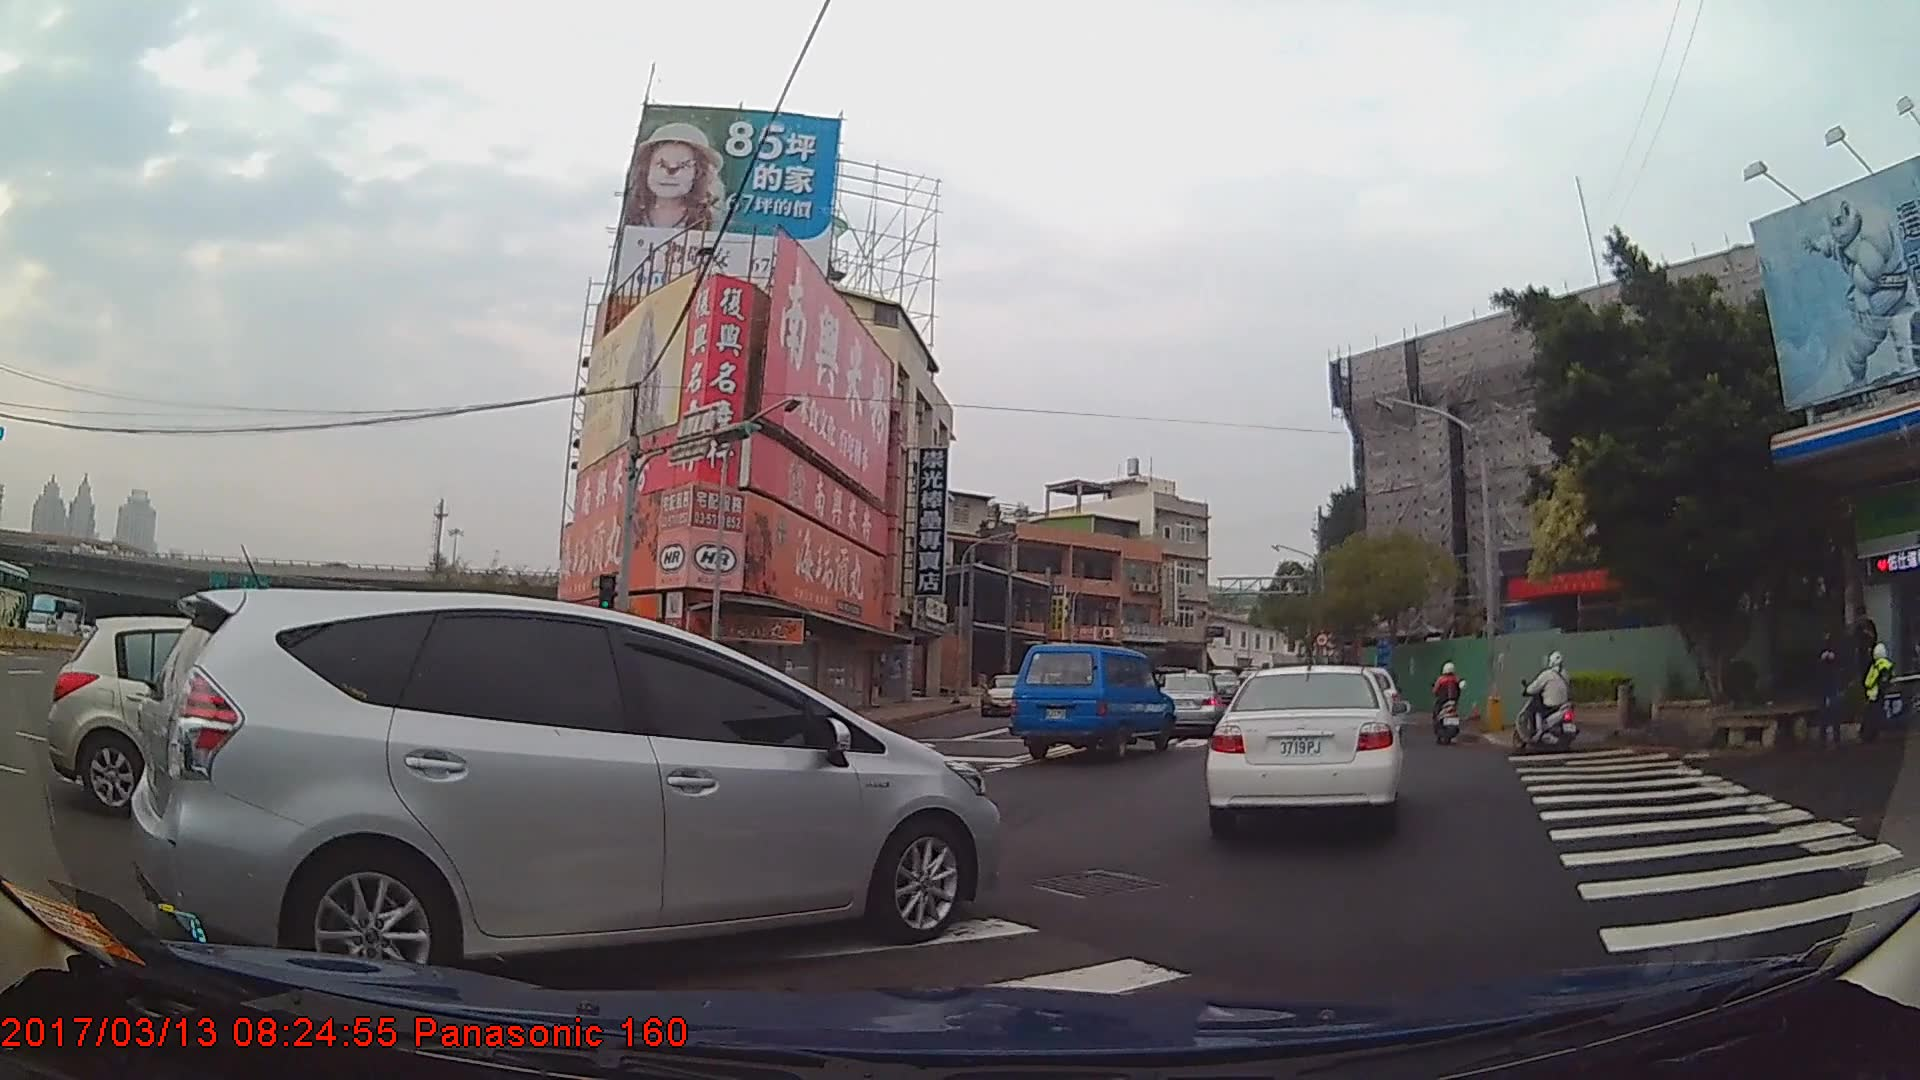pedestrian: (1805, 621, 1849, 747), (1836, 601, 1877, 707)
rider: (1516, 647, 1579, 750), (1432, 660, 1465, 743)
vehicle: (126, 585, 1004, 991), (51, 616, 381, 813), (1205, 664, 1401, 842), (1009, 643, 1174, 761), (1145, 669, 1219, 738)
